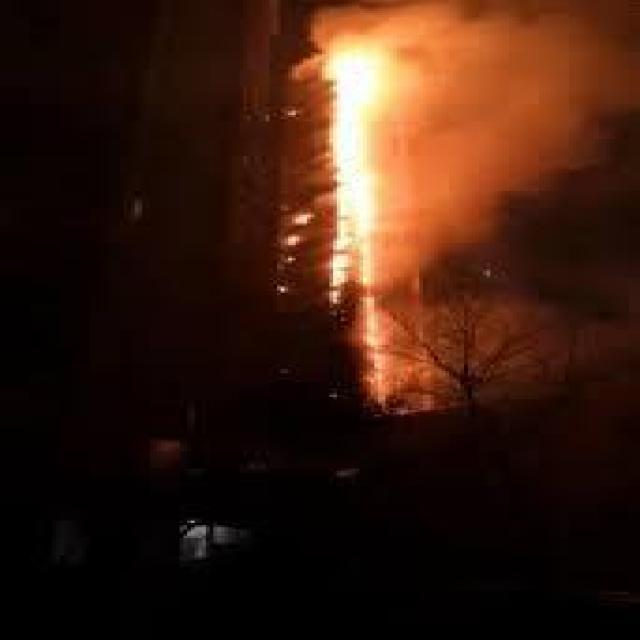Fire: (326, 2, 382, 410)
Smoke: (376, 2, 640, 282)
